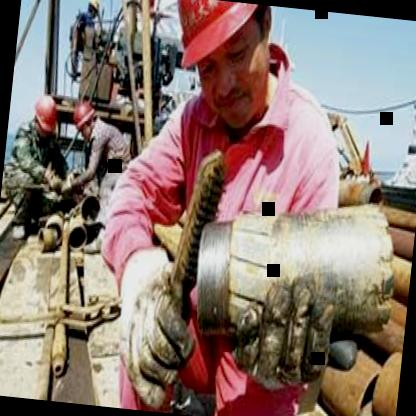helmet: (158, 0, 289, 142), (28, 92, 60, 142), (69, 96, 98, 145), (84, 0, 102, 19)
